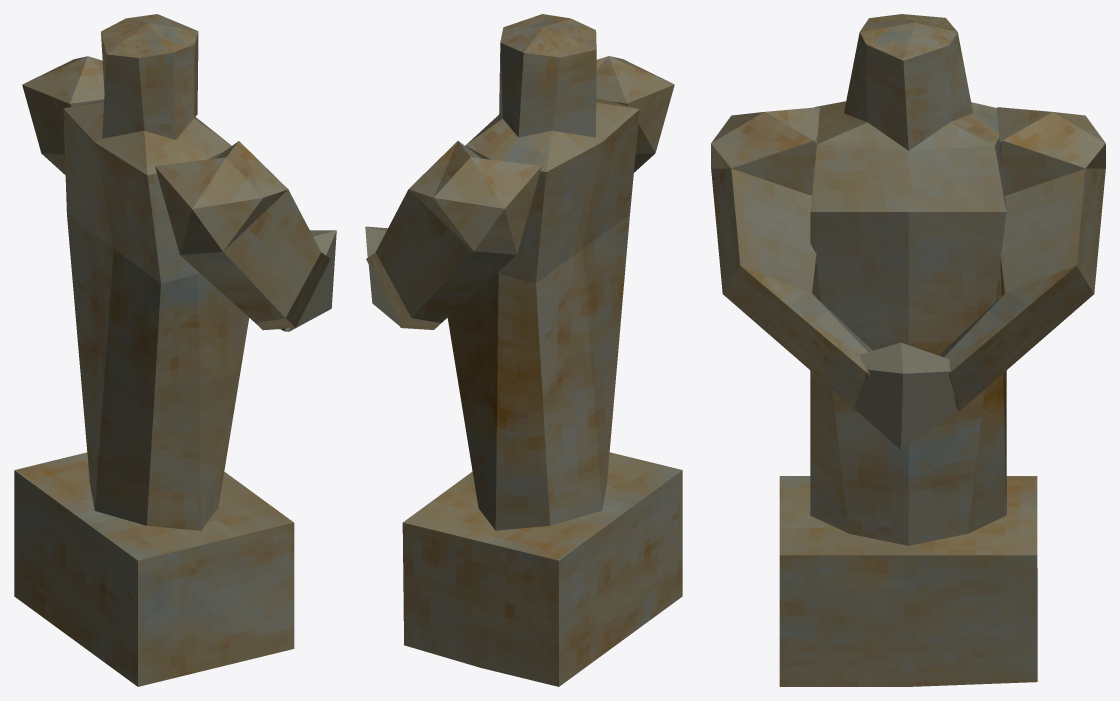
The model's file is cavaleiro_maos_baixo.fbx.
The picture shows the model from 3 angles, left to right: view 1: azimuth 30°, elevation 25°; view 2: azimuth 150°, elevation 25°; view 3: azimuth 270°, elevation 25°; orthographic projection. The views are drawn at different scales.
Visible parts, largest first — view 1: Cube, Esfera icosaédrica, Cubo.001; view 2: Cube, Esfera icosaédrica, Cubo.001; view 3: Cube, Esfera icosaédrica, Cubo.001.
Boxes of the visible parts, x1=… form: Cube: x1=14, y1=14, x2=294, y2=686; Esfera icosaédrica: x1=22, y1=56, x2=330, y2=330; Cubo.001: x1=280, y1=230, x2=336, y2=331; Cube: x1=402, y1=14, x2=682, y2=686; Esfera icosaédrica: x1=366, y1=56, x2=674, y2=329; Cubo.001: x1=365, y1=226, x2=399, y2=325; Cube: x1=779, y1=14, x2=1037, y2=686; Esfera icosaédrica: x1=711, y1=107, x2=1105, y2=410; Cubo.001: x1=846, y1=342, x2=956, y2=449.
Size of the model in its own units: 330 by 731 by 420.
